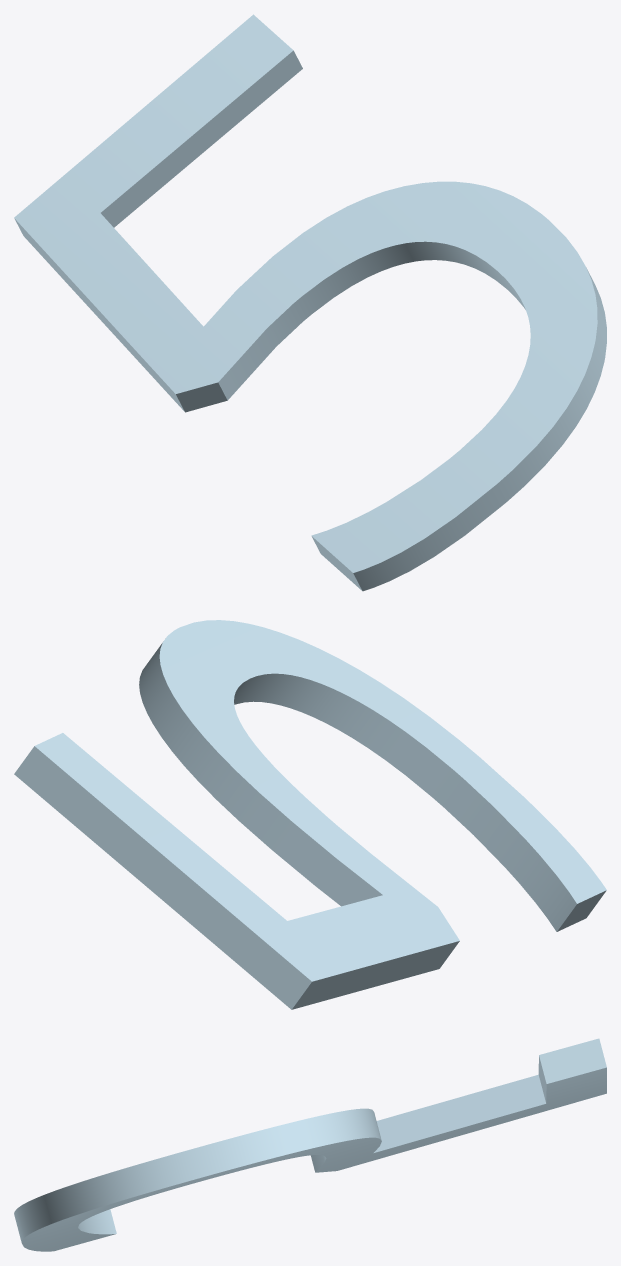
File: Number_5.gltf
3 views of the same model, one above another, from view 1: azimuth 30°, elevation 25°; view 2: azimuth 150°, elevation 25°; view 3: azimuth 270°, elevation 25° (orthographic). The views are drawn at different scales.
Visible parts, largest first — view 1: Sub_9_Cell_3_2_Number_5; view 2: Sub_9_Cell_3_2_Number_5; view 3: Sub_9_Cell_3_2_Number_5.
Part boxes in pixels (left/top/right/bottom): Sub_9_Cell_3_2_Number_5: left=14, top=14, right=606, bottom=591; Sub_9_Cell_3_2_Number_5: left=14, top=620, right=606, bottom=1009; Sub_9_Cell_3_2_Number_5: left=14, top=1038, right=606, bottom=1251.
Bounding box in the file's own units: 0.0154 × 0.0138 × 0.0249.
